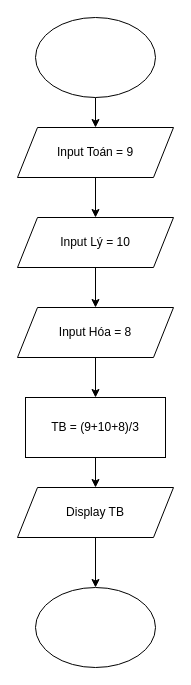
This 191x685 diagram has some shape labels left out. Each missing label, with the centre of its shape:
"End" belongs at [95,627].
"Start" belongs at [95,57].
